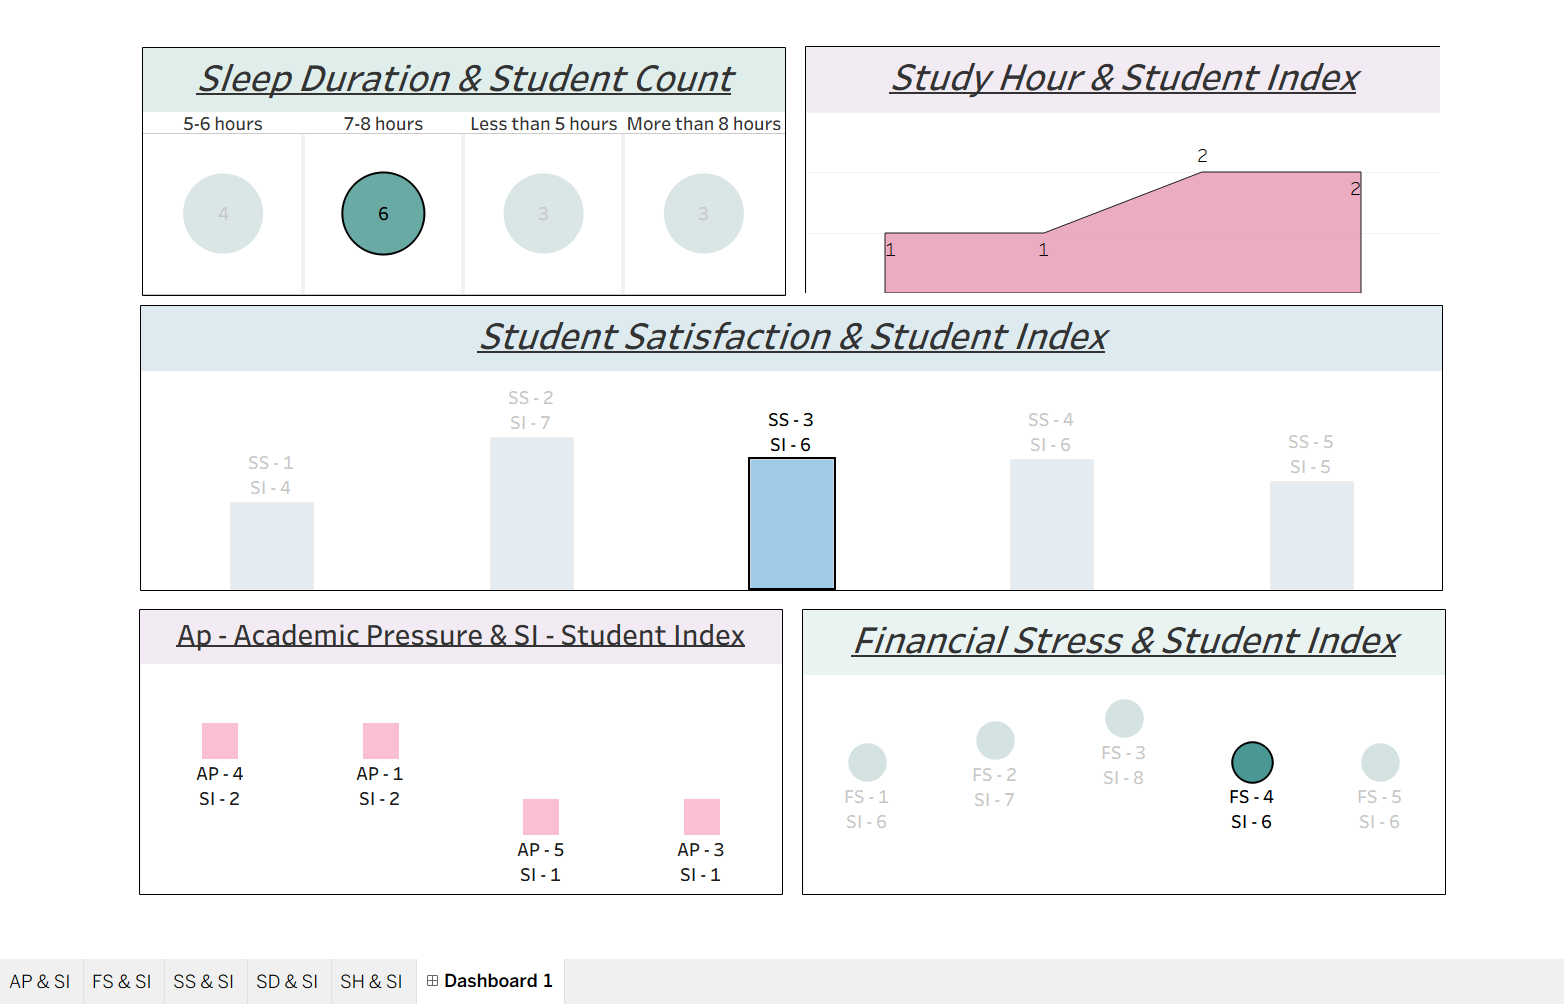

The page's visual inventory and layout, read from the dashboard file:
{"tool":"tableau","page":{"name":"Dashboard 1","canvas":[1000,1000],"units":"permille","ordinal":0},"visuals":[{"type":"worksheet","title":"SH & SI","mark":"Area","rows":["F13"],"cols":["F8"],"box":[405.9,5.4,385.3,288.2]},{"type":"worksheet","title":"SD & SI","mark":"Pie","cols":["F5"],"box":[4.4,6.7,390.3,289.5]},{"type":"worksheet","title":"SS & SI","mark":"Automatic","rows":["F13"],"cols":["F4"],"box":[3.1,307,789.9,332.4]},{"type":"worksheet","title":"AP & SI","mark":"Square","rows":["F13"],"cols":["F3"],"box":[2.5,660.9,390.3,332.4]},{"type":"worksheet","title":"FS & SI","mark":"Circle","rows":["F13"],"cols":["F9"],"box":[404,660.9,390.3,332.4]}]}

Visuals, with their boxes on the dashboard's canvas, which has no fixed pixel size, in thousandths of its width and height (x1, y1, x2, y2). These are canvas units, not pixel positions in the 1564x1004 screenshot, which may show the page scaled, cropped or inside an application window:
"SH & SI" worksheet (Area marks): pyautogui.locateOnScreen(406, 5, 791, 294)
"SD & SI" worksheet (Pie marks): pyautogui.locateOnScreen(4, 7, 395, 296)
"SS & SI" worksheet: pyautogui.locateOnScreen(3, 307, 793, 639)
"AP & SI" worksheet (Square marks): pyautogui.locateOnScreen(2, 661, 393, 993)
"FS & SI" worksheet (Circle marks): pyautogui.locateOnScreen(404, 661, 794, 993)
